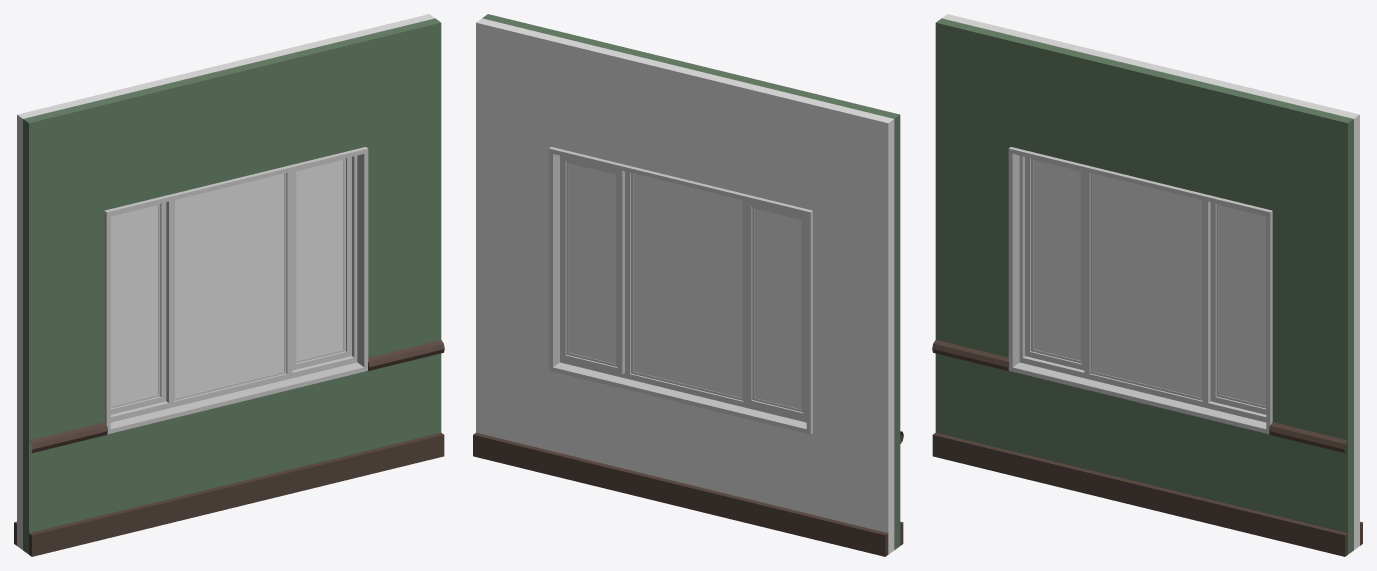
Rendered from h_wall_3_window_1_4.fbx.
3 renders of one model, left to right at view 1: azimuth 30°, elevation 25°; view 2: azimuth 150°, elevation 25°; view 3: azimuth 330°, elevation 25°, orthographic.
Visible parts, largest first — view 1: Cube; view 2: Cube; view 3: Cube.
Part boxes in pixels (box(x1,y1,x2,y2)): Cube: box(14, 14, 444, 556); Cube: box(473, 14, 903, 556); Cube: box(932, 14, 1362, 556).
Bounding box in the file's own units: 400 × 400 × 31.
